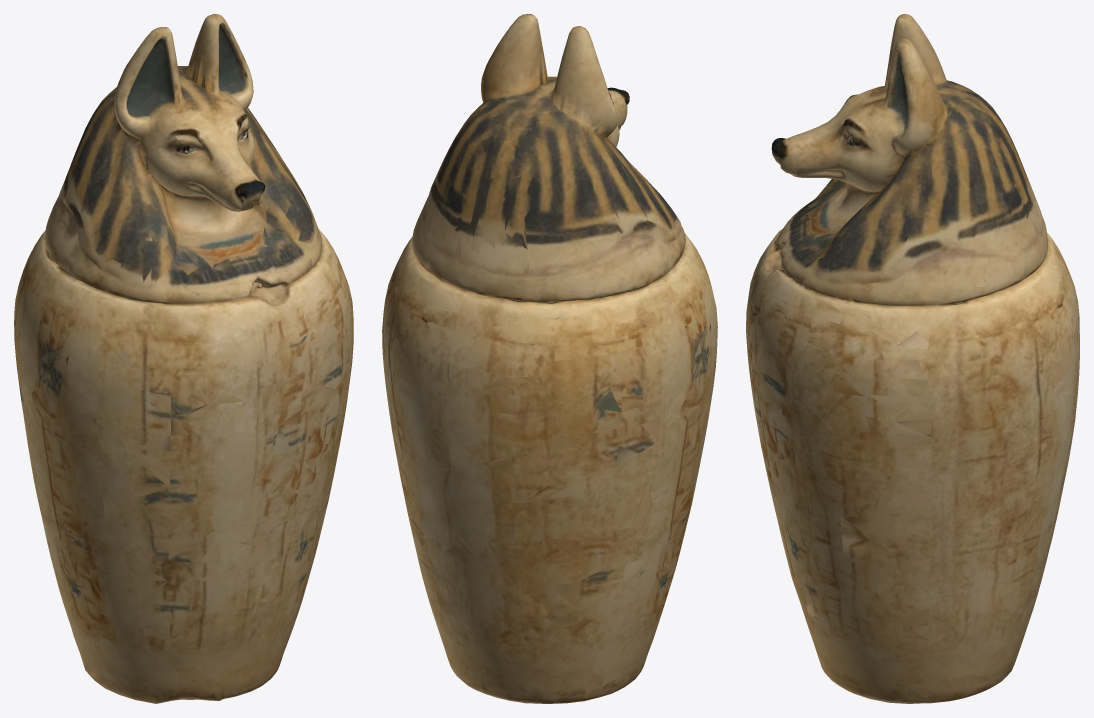
Rendered from canopic_duamutef.glb.
3 renders of one model, left to right at view 1: azimuth 30°, elevation 25°; view 2: azimuth 150°, elevation 25°; view 3: azimuth 270°, elevation 25°, orthographic.
Parts seen in each view (by area): view 1: prop; view 2: prop; view 3: prop.
Boxes of the visible parts, bbox=[...] form: prop: bbox=[14, 14, 353, 703]; prop: bbox=[382, 14, 717, 703]; prop: bbox=[746, 14, 1079, 703].
Bounding box in the file's own units: 0.1867 × 0.4 × 0.1893.
1 material, 1 textured.
